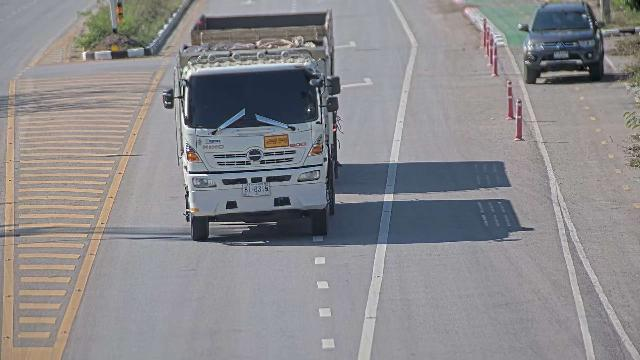pickup-truck: (517, 1, 605, 84)
truck: (168, 22, 344, 243)
